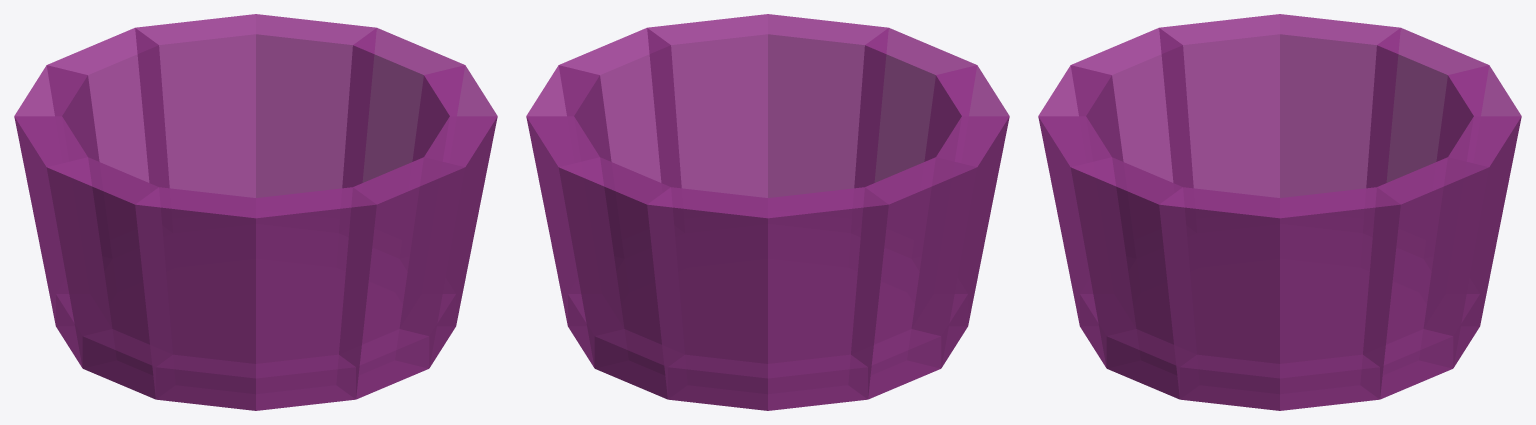
File: SM_Prop_Crows_Nest_01_Collision.fbx
3 renders of one model, left to right at view 1: azimuth 30°, elevation 25°; view 2: azimuth 150°, elevation 25°; view 3: azimuth 270°, elevation 25°, orthographic.
Visible parts, largest first — view 1: SM_Prop_Crows_Nest_01_Collision; view 2: SM_Prop_Crows_Nest_01_Collision; view 3: SM_Prop_Crows_Nest_01_Collision.
Part boxes in pixels (left/top/right/bottom): SM_Prop_Crows_Nest_01_Collision: left=14, top=14, right=497, bottom=410; SM_Prop_Crows_Nest_01_Collision: left=526, top=14, right=1009, bottom=410; SM_Prop_Crows_Nest_01_Collision: left=1038, top=14, right=1521, bottom=410.
Size of the model in its own units: 264 by 127 by 264.
